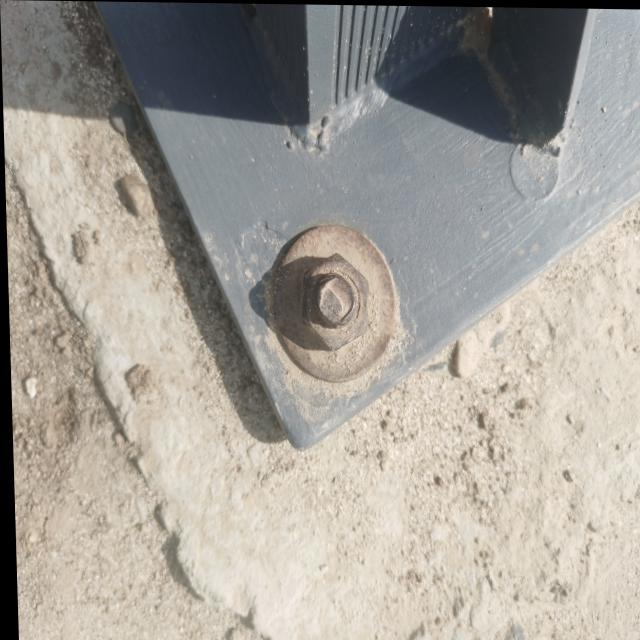Rusty bolt: (299, 250, 371, 353)
